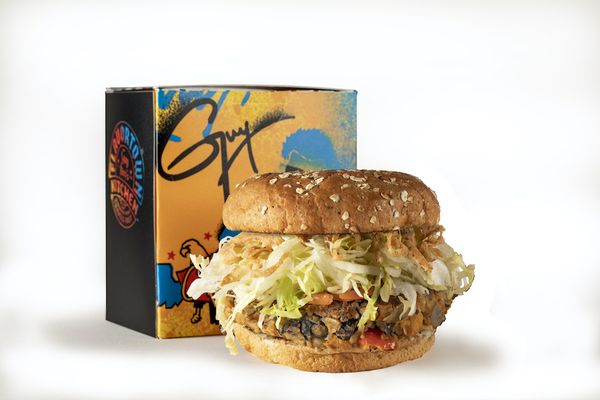soup: (183, 166, 476, 373)
